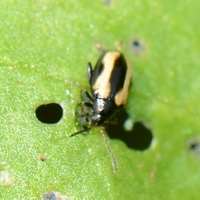insect: (70, 51, 131, 136)
